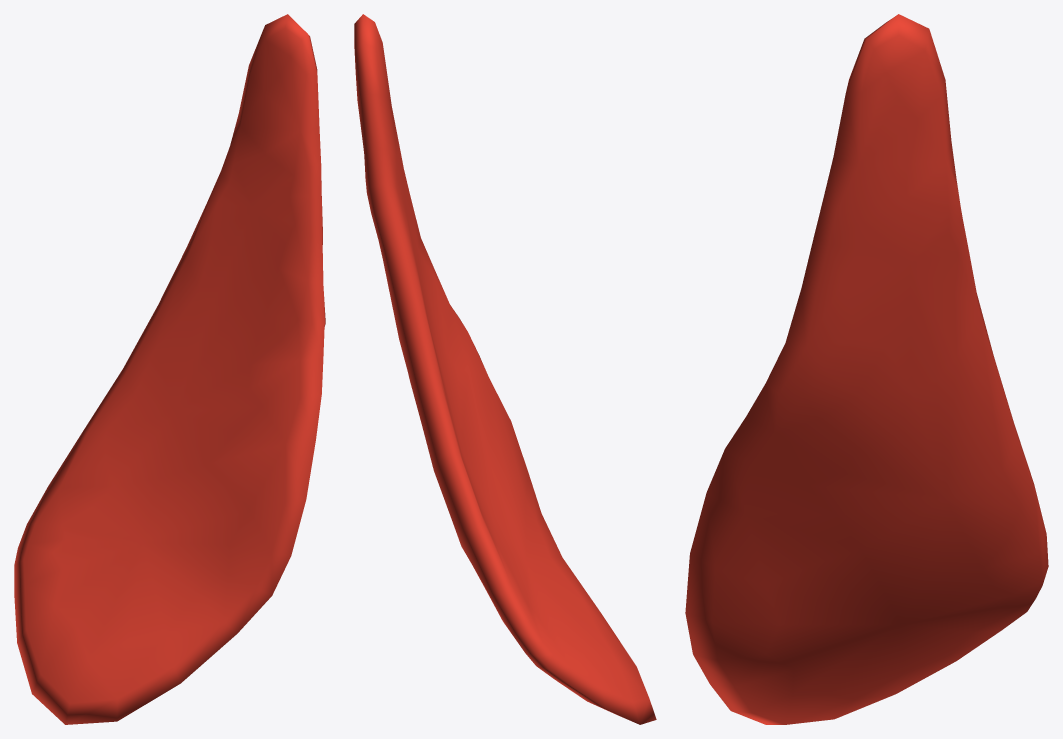
File: Levator_nasolabialis_maxilla_right.glb
The picture shows the model from 3 angles, left to right: view 1: azimuth 30°, elevation 25°; view 2: azimuth 150°, elevation 25°; view 3: azimuth 270°, elevation 25°; orthographic projection. The views are drawn at different scales.
Visible parts, largest first — view 1: Levator_nasolabialis_on_maxilla.r_Generated_Mesh_From_X3D.77; view 2: Levator_nasolabialis_on_maxilla.r_Generated_Mesh_From_X3D.77; view 3: Levator_nasolabialis_on_maxilla.r_Generated_Mesh_From_X3D.77.
Boxes of the visible parts, bbox=[...] form: Levator_nasolabialis_on_maxilla.r_Generated_Mesh_From_X3D.77: bbox=[14, 14, 325, 724]; Levator_nasolabialis_on_maxilla.r_Generated_Mesh_From_X3D.77: bbox=[354, 14, 656, 724]; Levator_nasolabialis_on_maxilla.r_Generated_Mesh_From_X3D.77: bbox=[685, 14, 1048, 724].
Size of the model in its own units: 0.00516 by 0.0113 by 0.00425.
